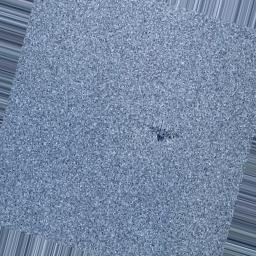Airplane: (143, 123, 183, 144)
